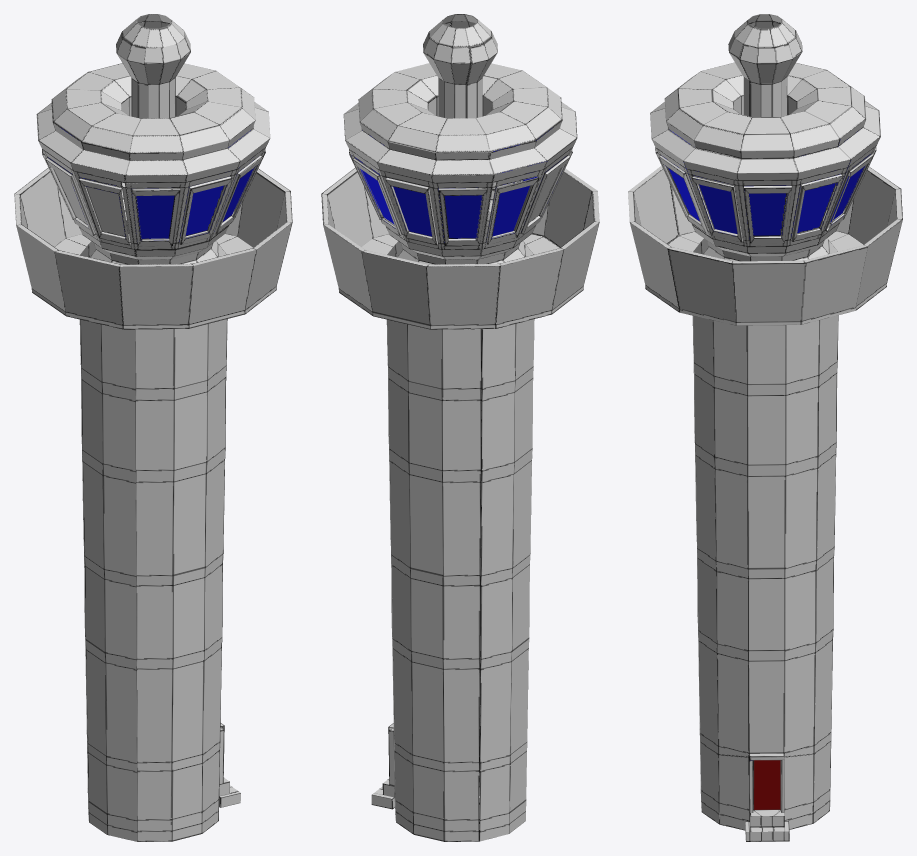
File: Turm_rund3.obj
3 views of the same model, side by side, from view 1: azimuth 30°, elevation 25°; view 2: azimuth 150°, elevation 25°; view 3: azimuth 270°, elevation 25° (orthographic).
Visible parts, largest first — view 1: Circle; view 2: Circle; view 3: Circle.
Part boxes in pixels (box(x1,y1,x2,y2)): Circle: box(14, 14, 292, 841); Circle: box(321, 14, 599, 841); Circle: box(628, 14, 902, 841).
Size of the model in its own units: 3.14 by 9.88 by 3.14.
Materials: 1 (1 with a texture image).
